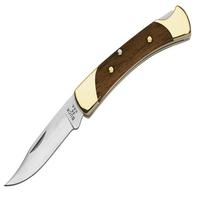knife: (3, 9, 188, 191)
